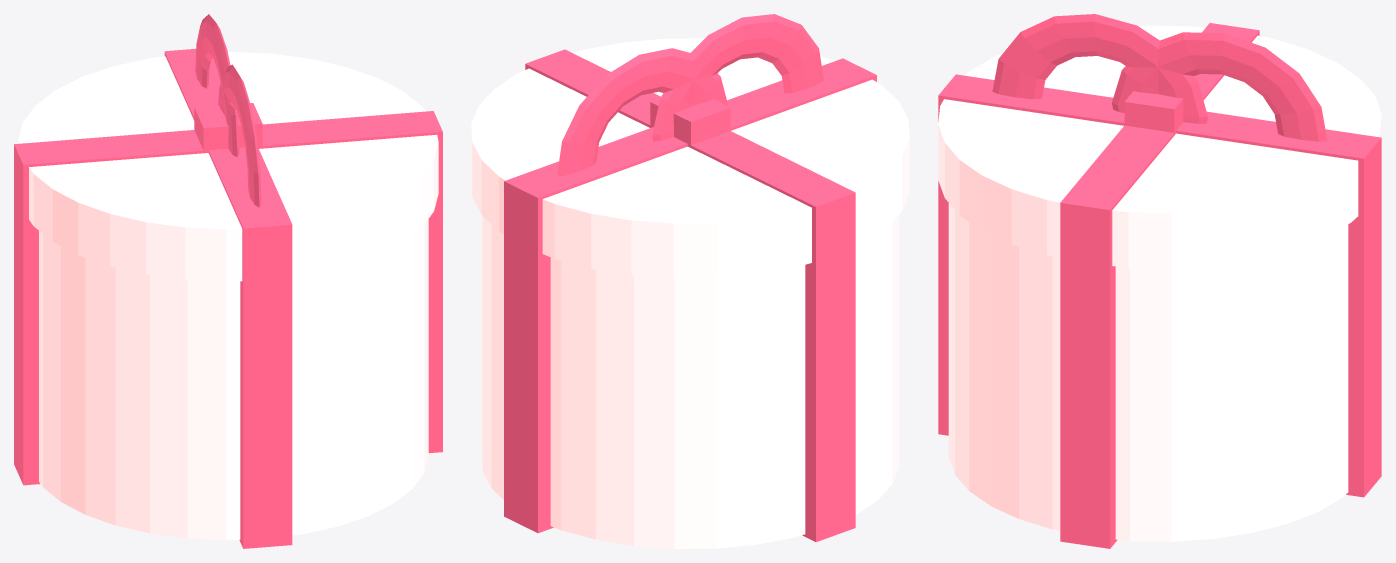
File: Tmpl_Round_Root_211.glb
3 renders of one model, left to right at view 1: azimuth 30°, elevation 25°; view 2: azimuth 150°, elevation 25°; view 3: azimuth 270°, elevation 25°, orthographic. The views are drawn at different scales.
Visible parts, largest first — view 1: Tmpl_Round_Base.209, Tmpl_Round_Lid.209, Tmpl_Round_Ribbon_X.209, Tmpl_Round_Ribbon_Y.209, Tmpl_Round_BowR.209, Tmpl_Round_BowL.209, Tmpl_Round_BowKnot.209; view 2: Tmpl_Round_Base.209, Tmpl_Round_Lid.209, Tmpl_Round_Ribbon_Y.209, Tmpl_Round_Ribbon_X.209, Tmpl_Round_BowL.209, Tmpl_Round_BowR.209, Tmpl_Round_BowKnot.209; view 3: Tmpl_Round_Base.209, Tmpl_Round_Lid.209, Tmpl_Round_Ribbon_Y.209, Tmpl_Round_Ribbon_X.209, Tmpl_Round_BowL.209, Tmpl_Round_BowR.209, Tmpl_Round_BowKnot.209.
Boxes of the visible parts, left/top/right/bottom form: Tmpl_Round_Base.209: left=39, top=219, right=428, bottom=540; Tmpl_Round_Lid.209: left=18, top=51, right=438, bottom=281; Tmpl_Round_Ribbon_X.209: left=164, top=48, right=292, bottom=548; Tmpl_Round_Ribbon_Y.209: left=14, top=111, right=442, bottom=485; Tmpl_Round_BowR.209: left=195, top=14, right=239, bottom=156; Tmpl_Round_BowL.209: left=218, top=64, right=261, bottom=207; Tmpl_Round_BowKnot.209: left=194, top=103, right=262, bottom=152; Tmpl_Round_Base.209: left=481, top=214, right=899, bottom=548; Tmpl_Round_Lid.209: left=471, top=38, right=909, bottom=278; Tmpl_Round_Ribbon_Y.209: left=525, top=49, right=855, bottom=542; Tmpl_Round_Ribbon_X.209: left=504, top=58, right=876, bottom=533; Tmpl_Round_BowL.209: left=652, top=14, right=823, bottom=141; Tmpl_Round_BowR.209: left=557, top=48, right=728, bottom=176; Tmpl_Round_BowKnot.209: left=650, top=98, right=730, bottom=145; Tmpl_Round_Base.209: left=948, top=203, right=1348, bottom=541; Tmpl_Round_Lid.209: left=938, top=25, right=1381, bottom=268; Tmpl_Round_Ribbon_Y.209: left=1060, top=23, right=1259, bottom=548; Tmpl_Round_Ribbon_X.209: left=938, top=74, right=1381, bottom=497; Tmpl_Round_BowL.209: left=992, top=14, right=1207, bottom=123; Tmpl_Round_BowR.209: left=1112, top=32, right=1327, bottom=141; Tmpl_Round_BowKnot.209: left=1124, top=91, right=1183, bottom=132.
Bounding box in the file's own units: 1.04 × 1.12 × 1.04.
